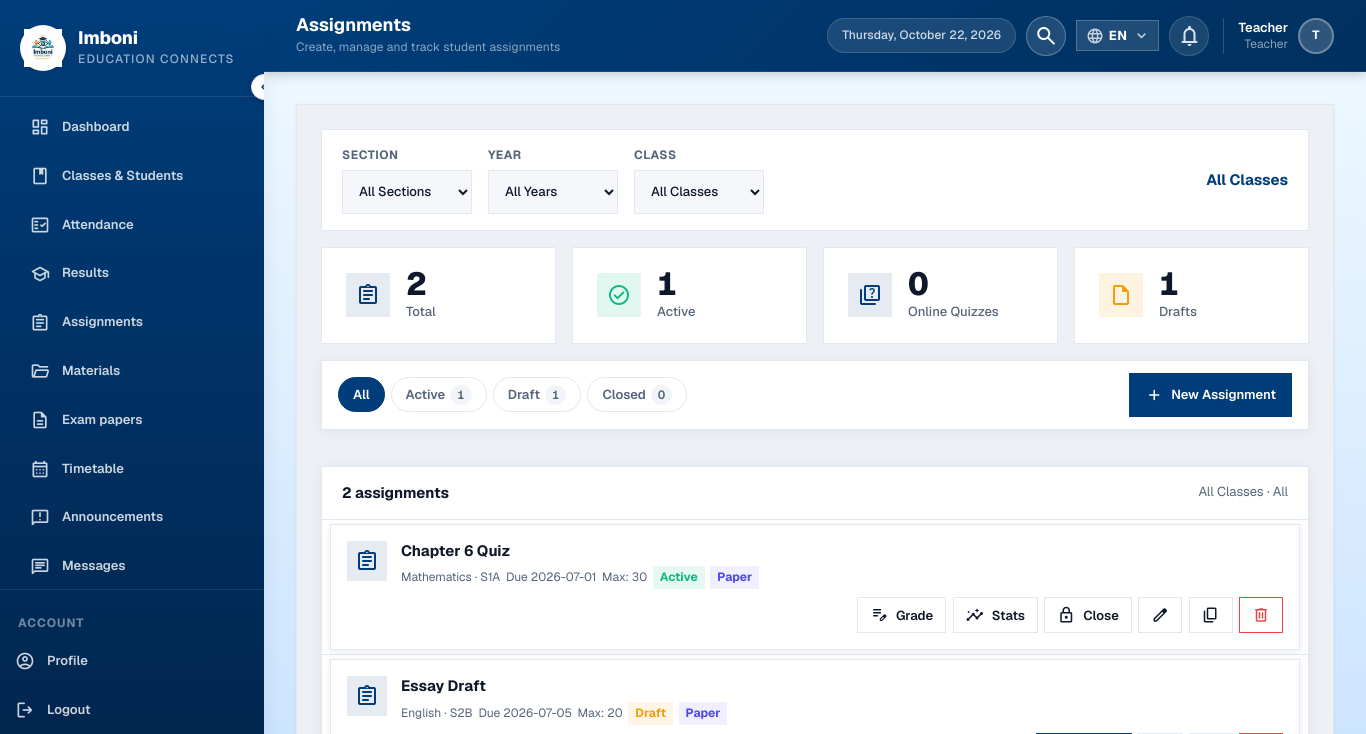
it: TeacherAssignments › opens the grading queue for an active paper assignment and saves scores
Expected: the text "Chapter 6 Quiz" is shown, [401,541,510,560]
Click the button "Grade" at (902, 616), box [857,598,946,634]
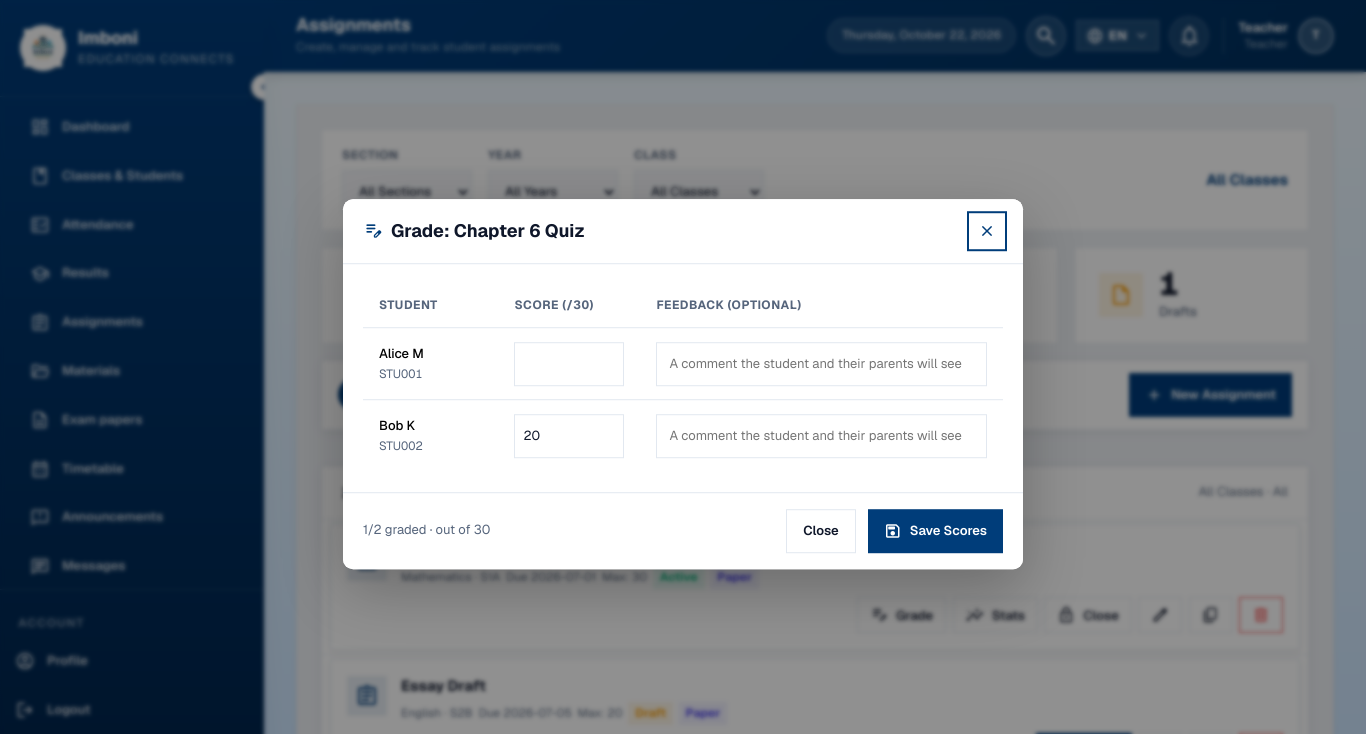
Expected: the text "Alice M" is shown, [379,345,424,362]
Expected: the number field named "Score for Bob K" holds "20", [514,414,624,458]
Type "25" into the number field named "Score for Alice M" at (569, 364), box [514,342,624,386]
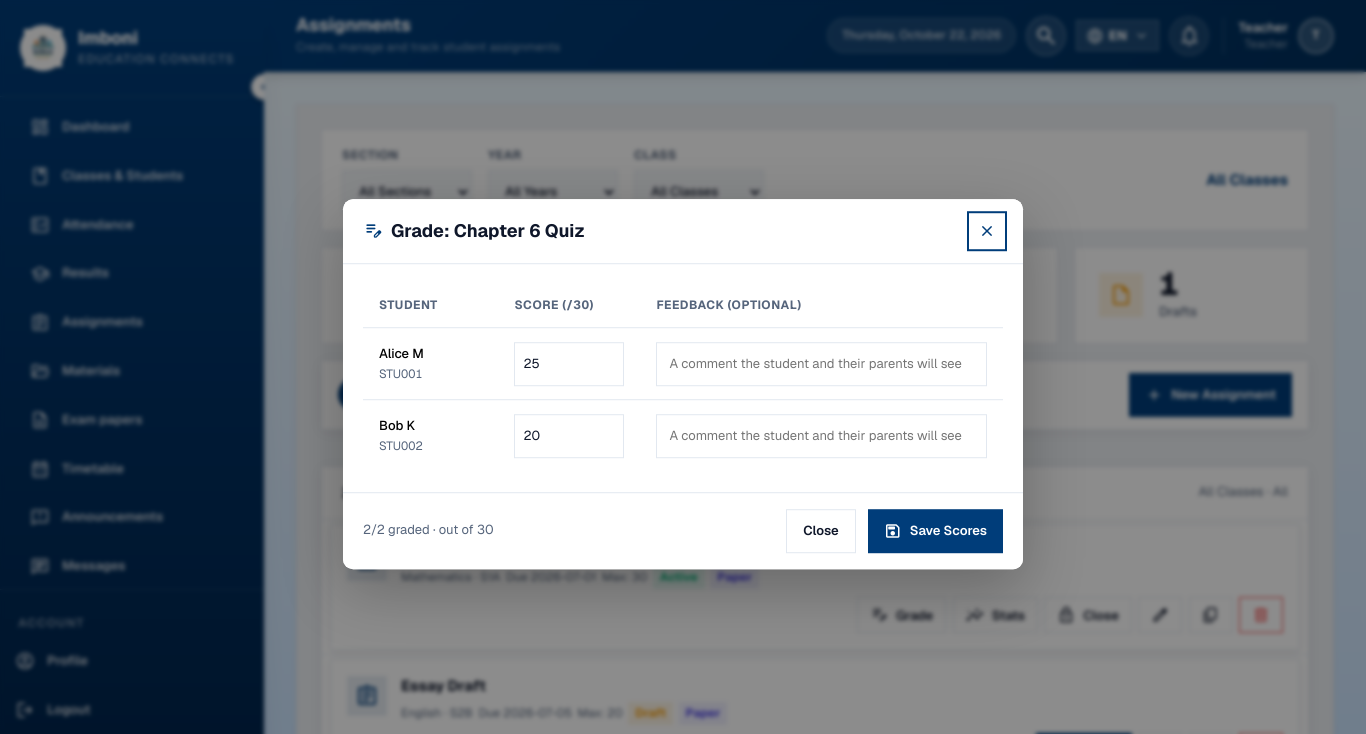
Click the button "Save Scores" at (935, 531), box [868,509,1003,553]
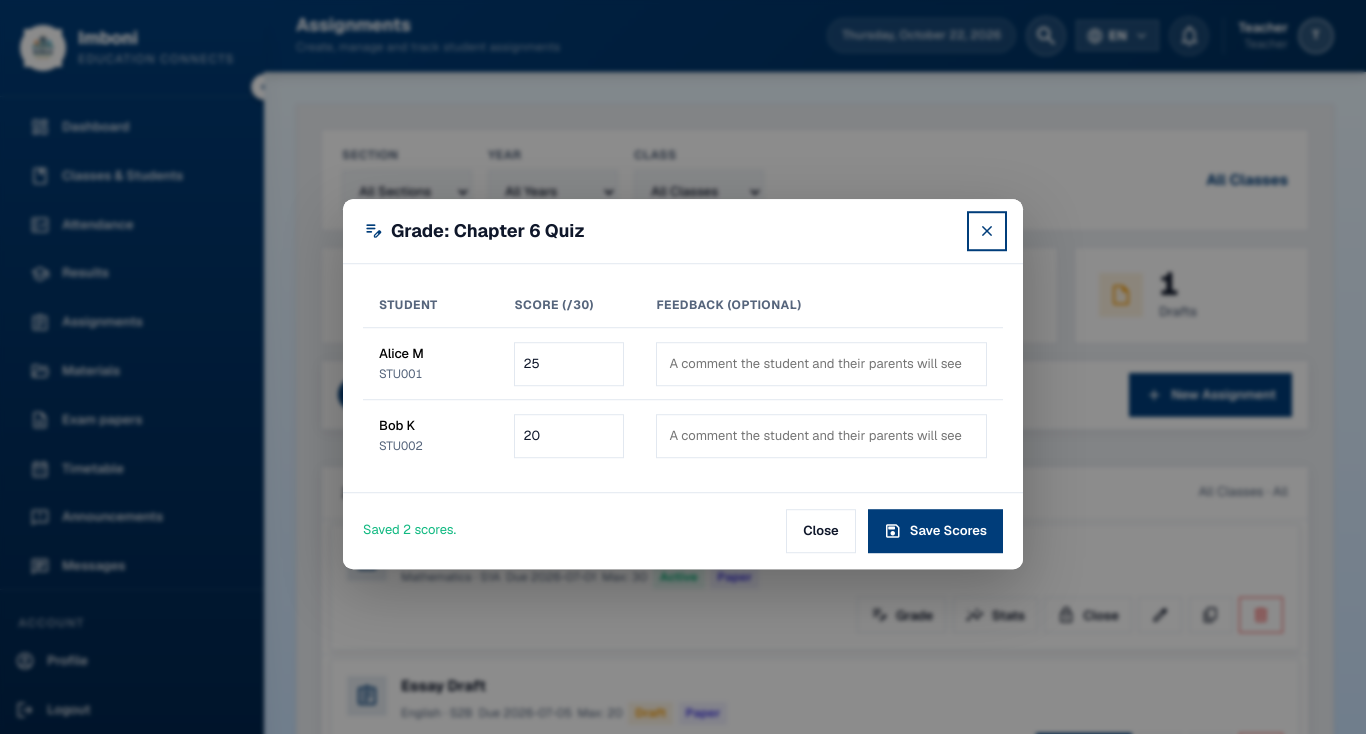
Expected: the text "Saved 2 scores." is shown, [363,521,456,538]
